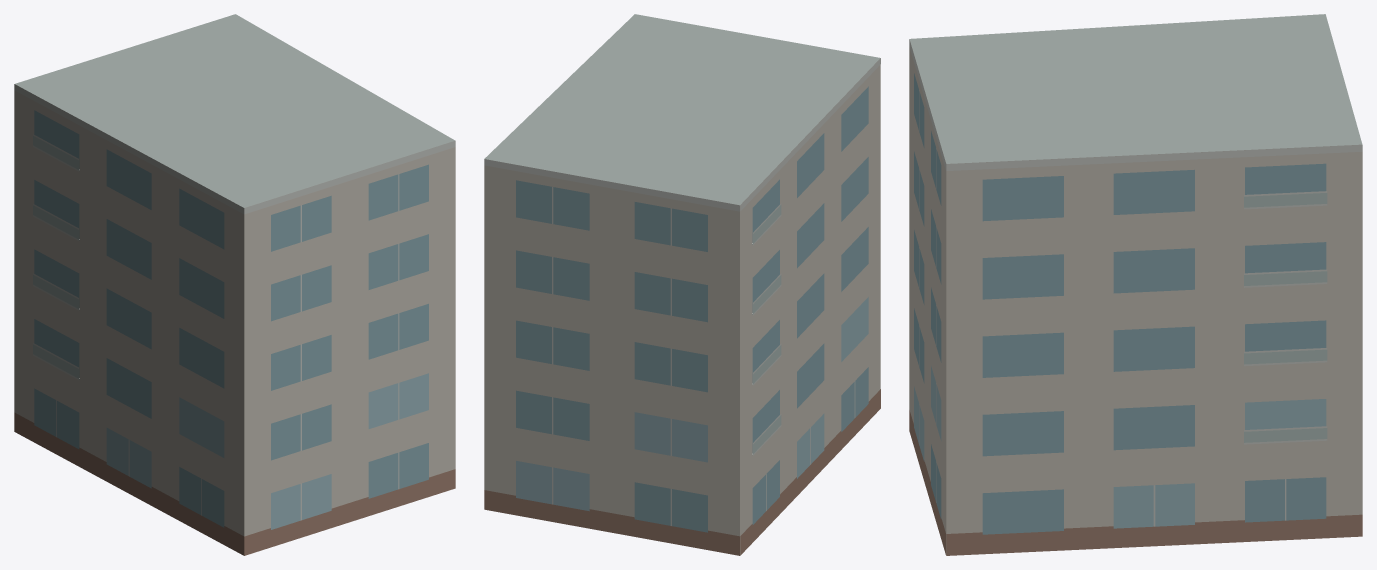
Rendered from survey-upis-32976953.glb.
3 renders of one model, left to right at view 1: azimuth 30°, elevation 25°; view 2: azimuth 150°, elevation 25°; view 3: azimuth 270°, elevation 25°, orthographic. The views are drawn at different scales.
Parts seen in each view (by area): view 1: survey-upis-32976953.tmp; view 2: survey-upis-32976953.tmp; view 3: survey-upis-32976953.tmp.
Boxes of the visible parts, <box> form: survey-upis-32976953.tmp: <box>14,14,455,555</box>; survey-upis-32976953.tmp: <box>484,14,880,555</box>; survey-upis-32976953.tmp: <box>909,14,1362,555</box>.
Bounding box in the file's own units: 10.92 × 13.3 × 13.95.
